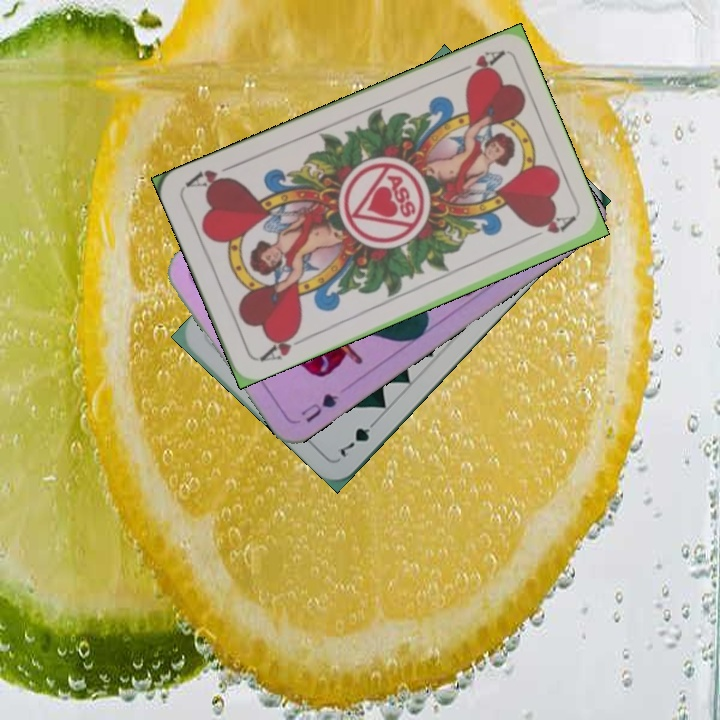G7: (336, 414, 382, 460)
GU: (296, 389, 341, 425)
HA: (449, 46, 506, 83), (255, 326, 310, 364)
